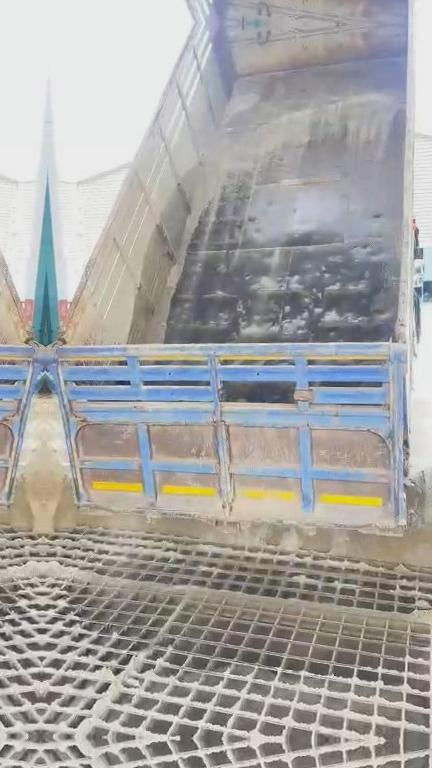sand: (174, 95, 398, 280), (44, 467, 432, 566), (43, 562, 432, 629), (80, 644, 152, 736), (147, 285, 174, 340), (232, 95, 258, 115)
